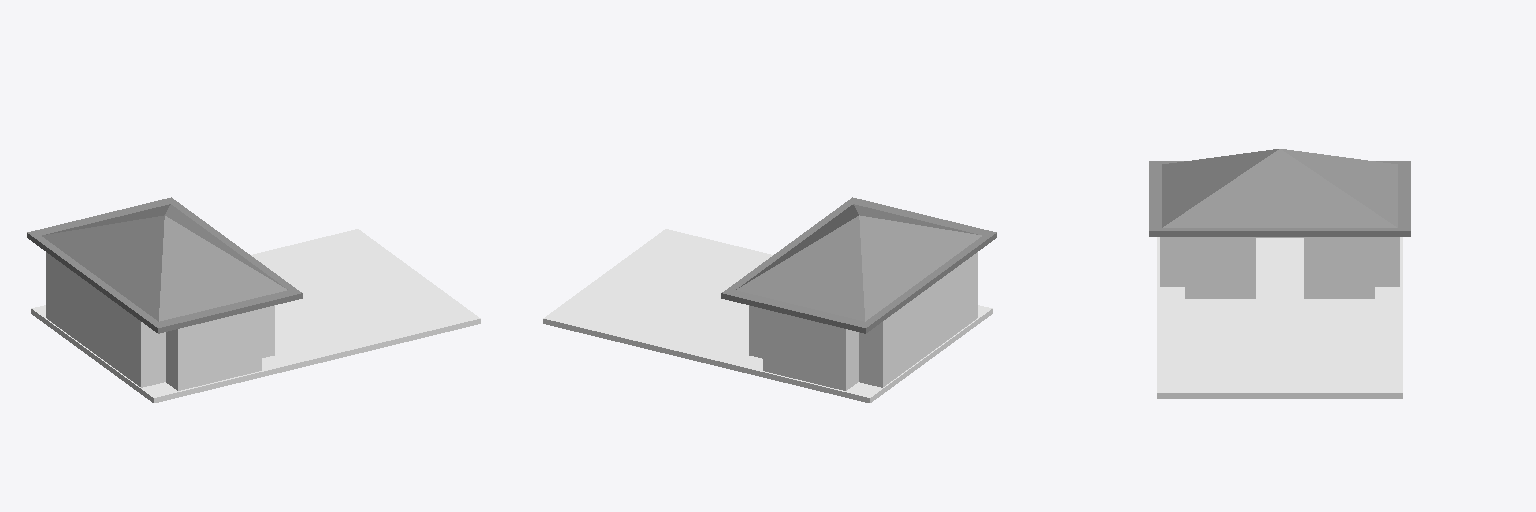
File: housev2.obj
3 renders of one model, left to right at view 1: azimuth 30°, elevation 25°; view 2: azimuth 150°, elevation 25°; view 3: azimuth 270°, elevation 25°, orthographic.
Visible parts, largest first — view 1: Plane.002_Plane.014, floor_Plane.013, Cube, Cube.004, Cube.002, Cube.001, Cube.005; view 2: Plane.002_Plane.014, floor_Plane.013, Cube, Cube.009, Cube.012, Cube.011, Cube.008; view 3: Plane.002_Plane.014, floor_Plane.013, Cube.007, Cube.003, Cube.010, Cube.006.
Part boxes in pixels (bbox=[...]): Plane.002_Plane.014: bbox=[31, 229, 480, 402]; floor_Plane.013: bbox=[27, 197, 302, 333]; Cube: bbox=[46, 252, 148, 387]; Cube.004: bbox=[184, 310, 255, 389]; Cube.002: bbox=[166, 328, 183, 390]; Cube.001: bbox=[149, 328, 165, 385]; Cube.005: bbox=[262, 305, 274, 357]; Plane.002_Plane.014: bbox=[543, 229, 992, 402]; floor_Plane.013: bbox=[721, 197, 996, 333]; Cube: bbox=[875, 252, 977, 387]; Cube.009: bbox=[764, 309, 843, 390]; Cube.012: bbox=[859, 322, 881, 385]; Cube.011: bbox=[844, 329, 858, 390]; Cube.008: bbox=[749, 305, 762, 358]; Plane.002_Plane.014: bbox=[1157, 237, 1402, 398]; floor_Plane.013: bbox=[1149, 149, 1410, 236]; Cube.007: bbox=[1304, 237, 1367, 298]; Cube.003: bbox=[1192, 237, 1255, 298]; Cube.010: bbox=[1375, 237, 1399, 286]; Cube.006: bbox=[1160, 237, 1184, 286].
Size of the model in its own units: 31.69 by 11.65 by 22.